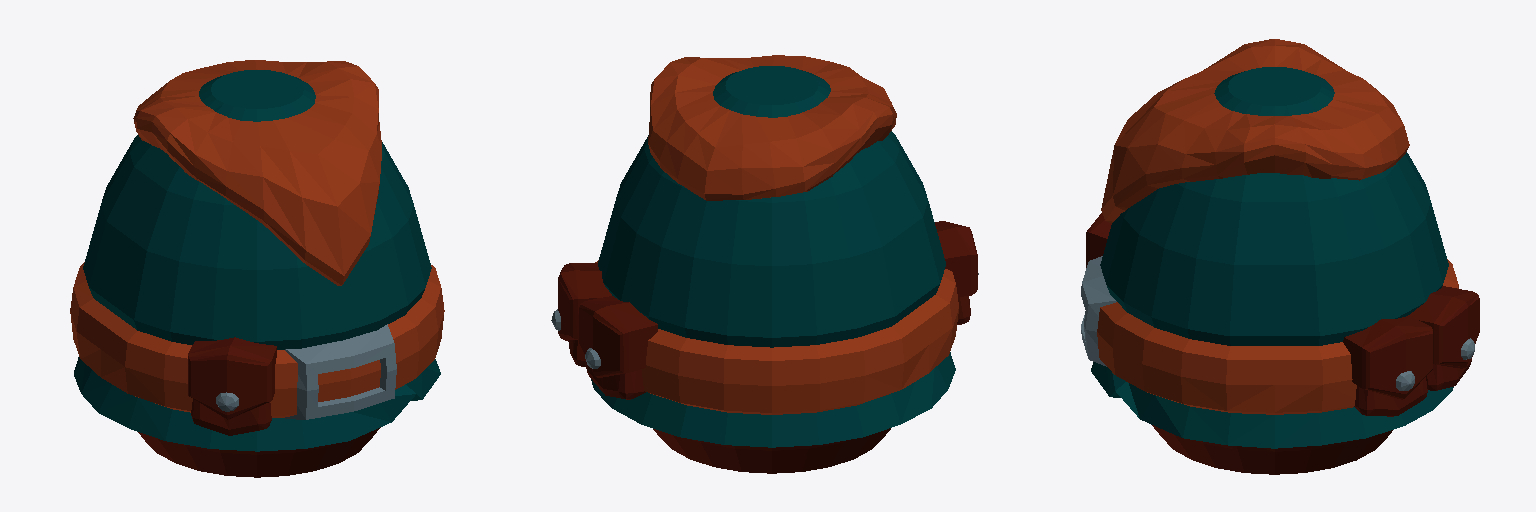
File: character_rogueBody.obj
3 views of the same model, side by side, from view 1: azimuth 30°, elevation 25°; view 2: azimuth 150°, elevation 25°; view 3: azimuth 270°, elevation 25° (orthographic).
Visible parts, largest first — view 1: character_rogueBody_Cube.007; view 2: character_rogueBody_Cube.007; view 3: character_rogueBody_Cube.007.
Part boxes in pixels (left/top/right/bottom): character_rogueBody_Cube.007: left=70, top=60, right=444, bottom=477; character_rogueBody_Cube.007: left=551, top=55, right=978, bottom=473; character_rogueBody_Cube.007: left=1081, top=39, right=1479, bottom=474.
Bounding box in the file's own units: 0.719 × 0.7287 × 0.7734.